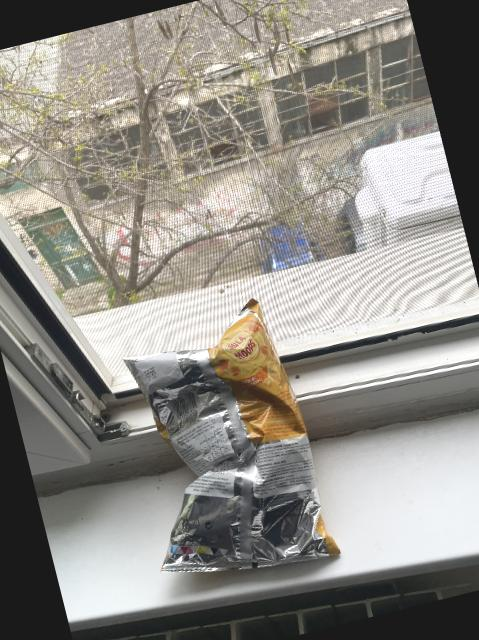Chio Hula Hoops Cheese 70g: (102, 284, 352, 598)
